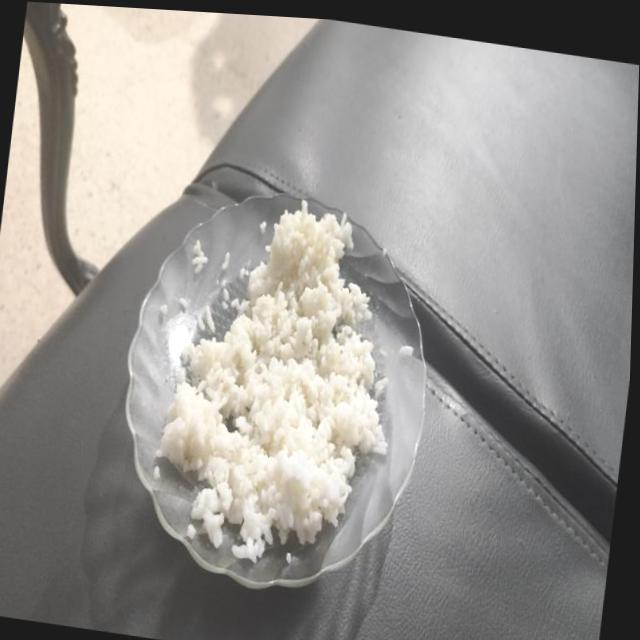nasi_putih: (156, 199, 387, 562)
